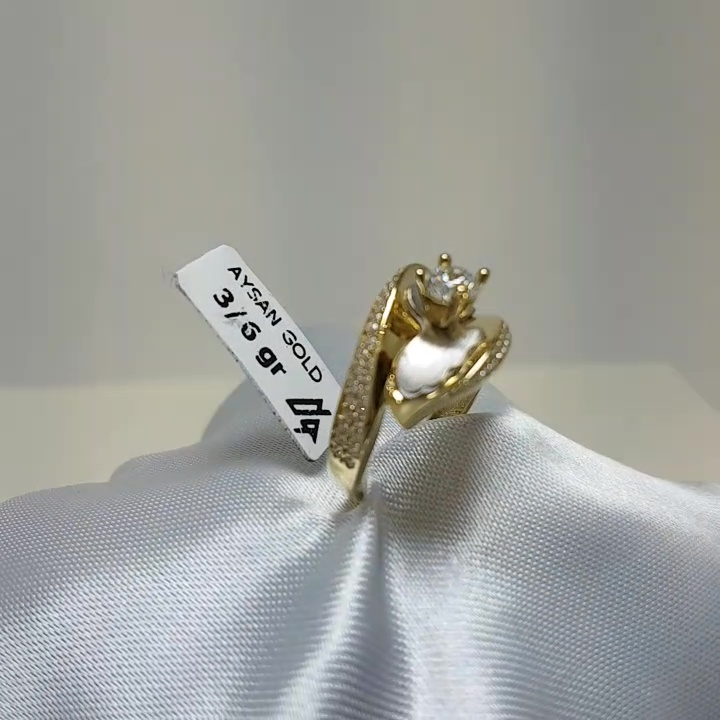Ring 6: (295, 229, 540, 540)
